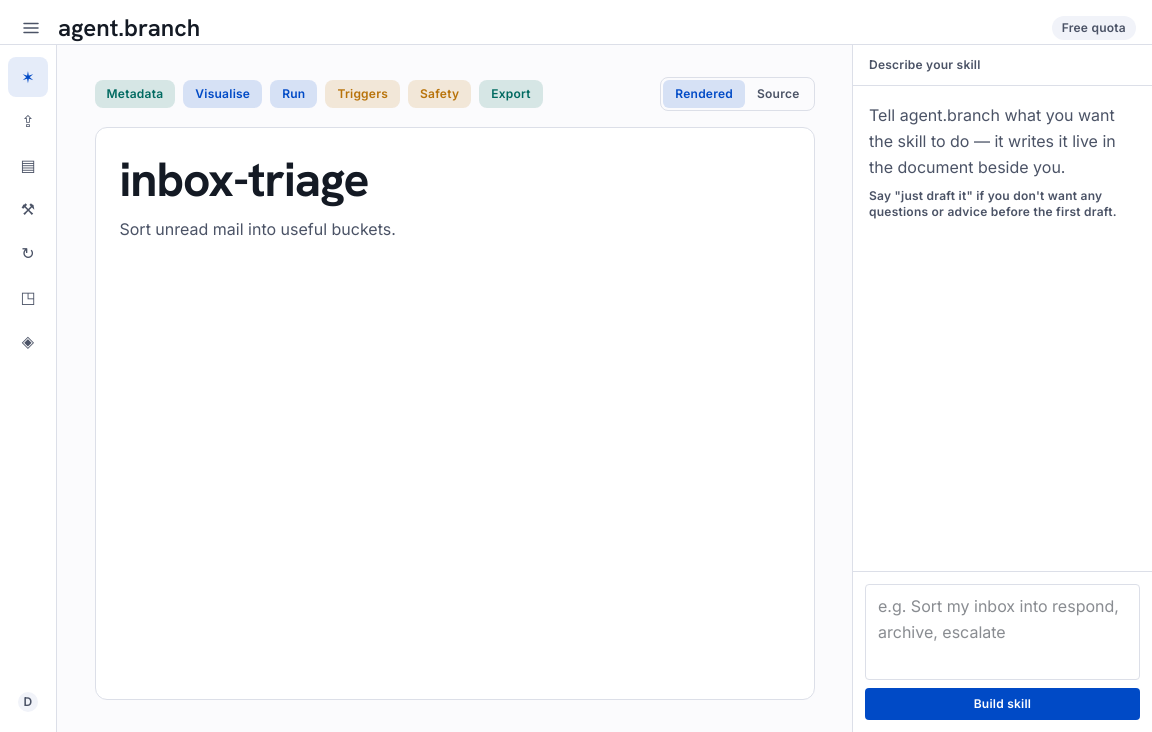
Scenario: AppShell capability chips › imports a public GitHub skill URL
Click the button named "Import" at [28, 121], box 8,101 -> 48,141
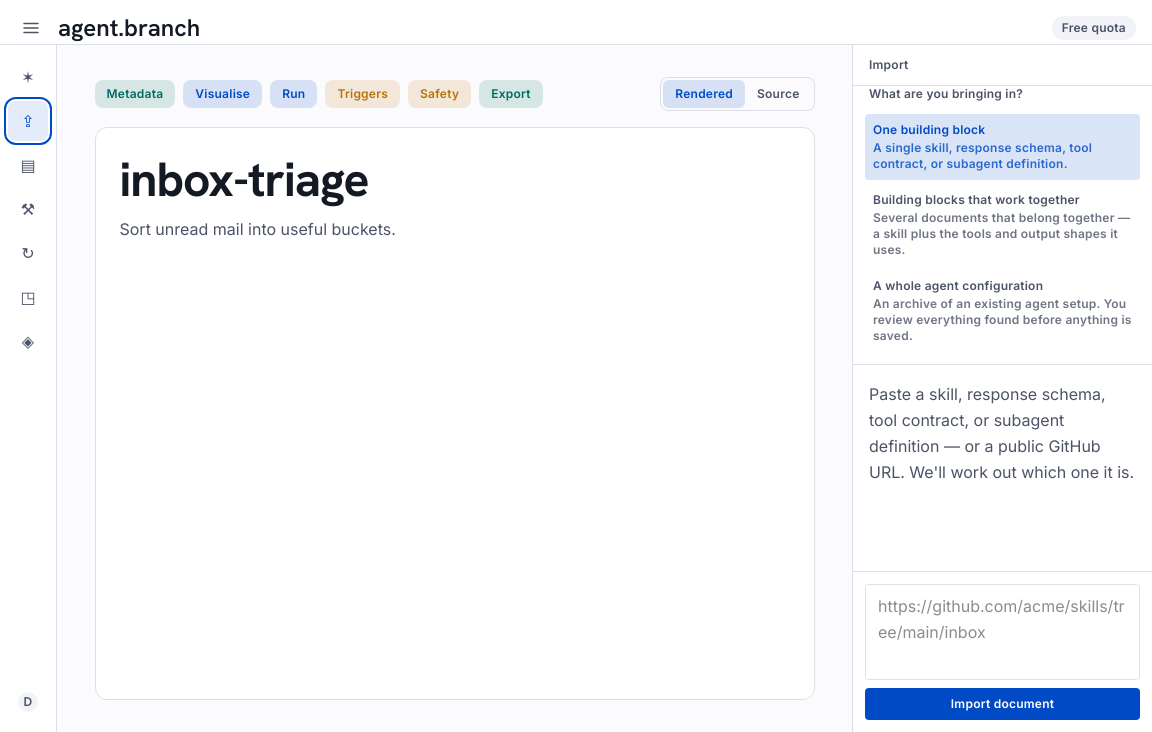
Type "https://github.com/acme/skills/tree/main/repo-summarizer" into the text box at [1002, 632], box 865,584 -> 1140,680
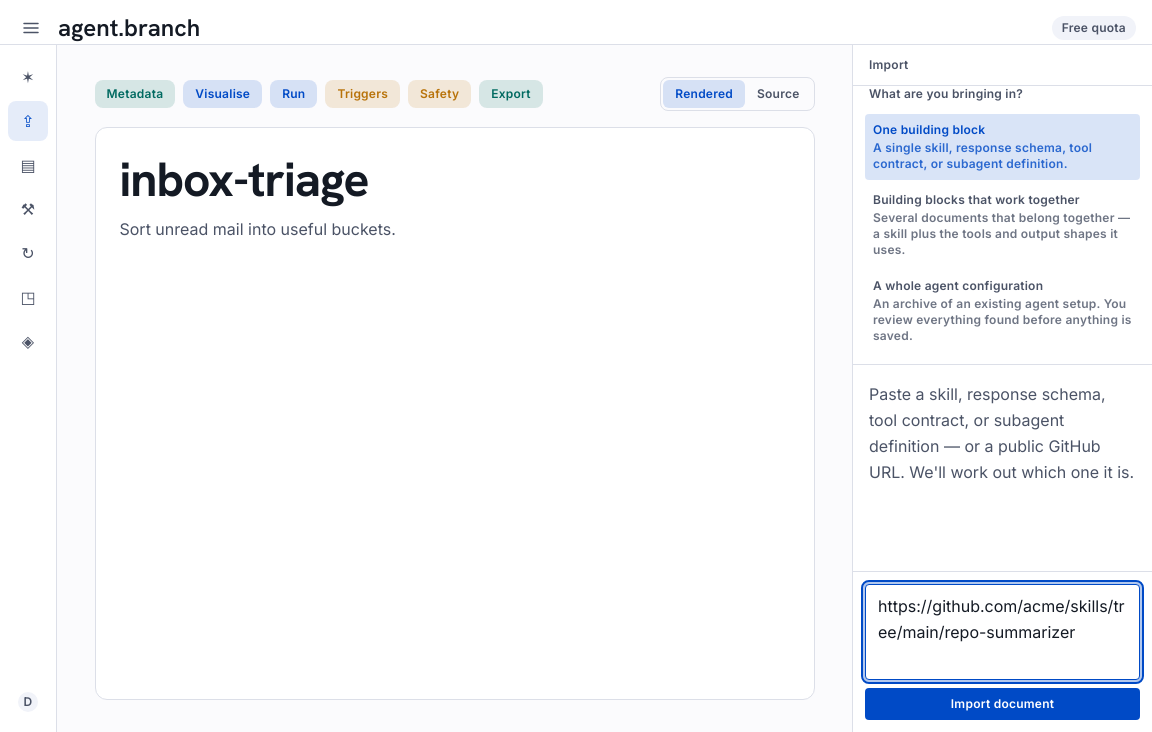
Click the button "Import document" at [1002, 704], box 865,688 -> 1140,720
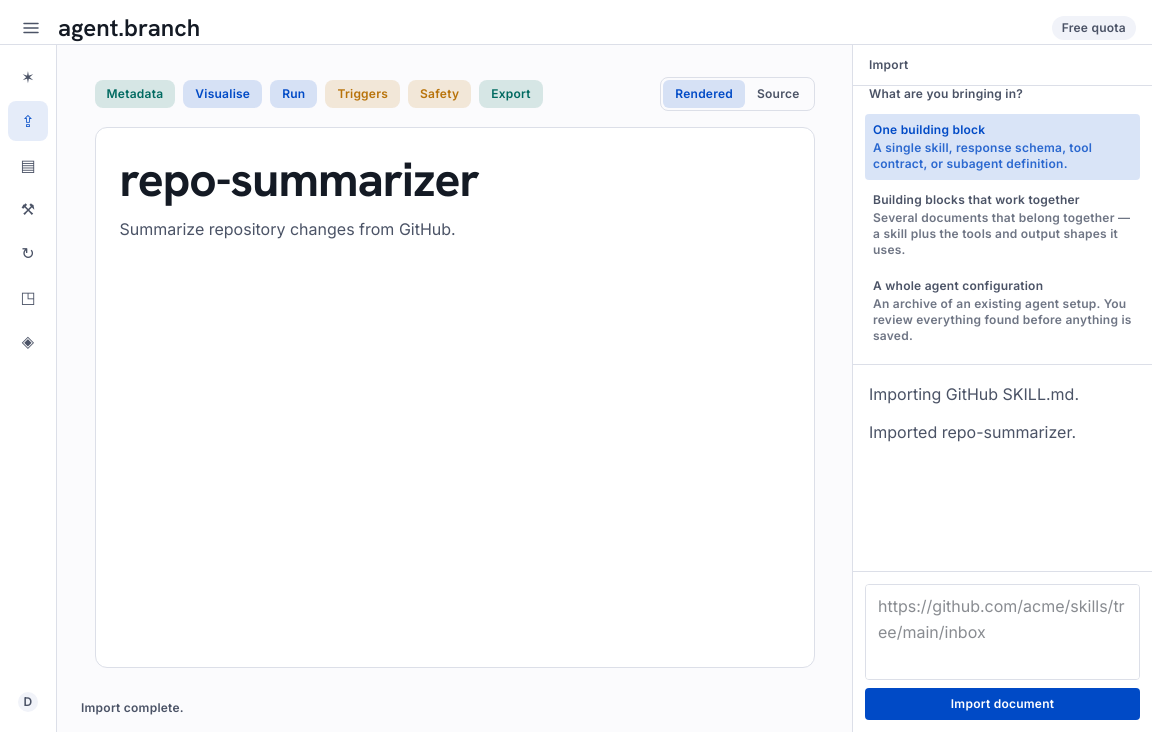
Expected: the heading "repo-summarizer" is shown, 120,152 -> 479,208
Expected: the message reads "Import complete.", 81,700 -> 184,715
